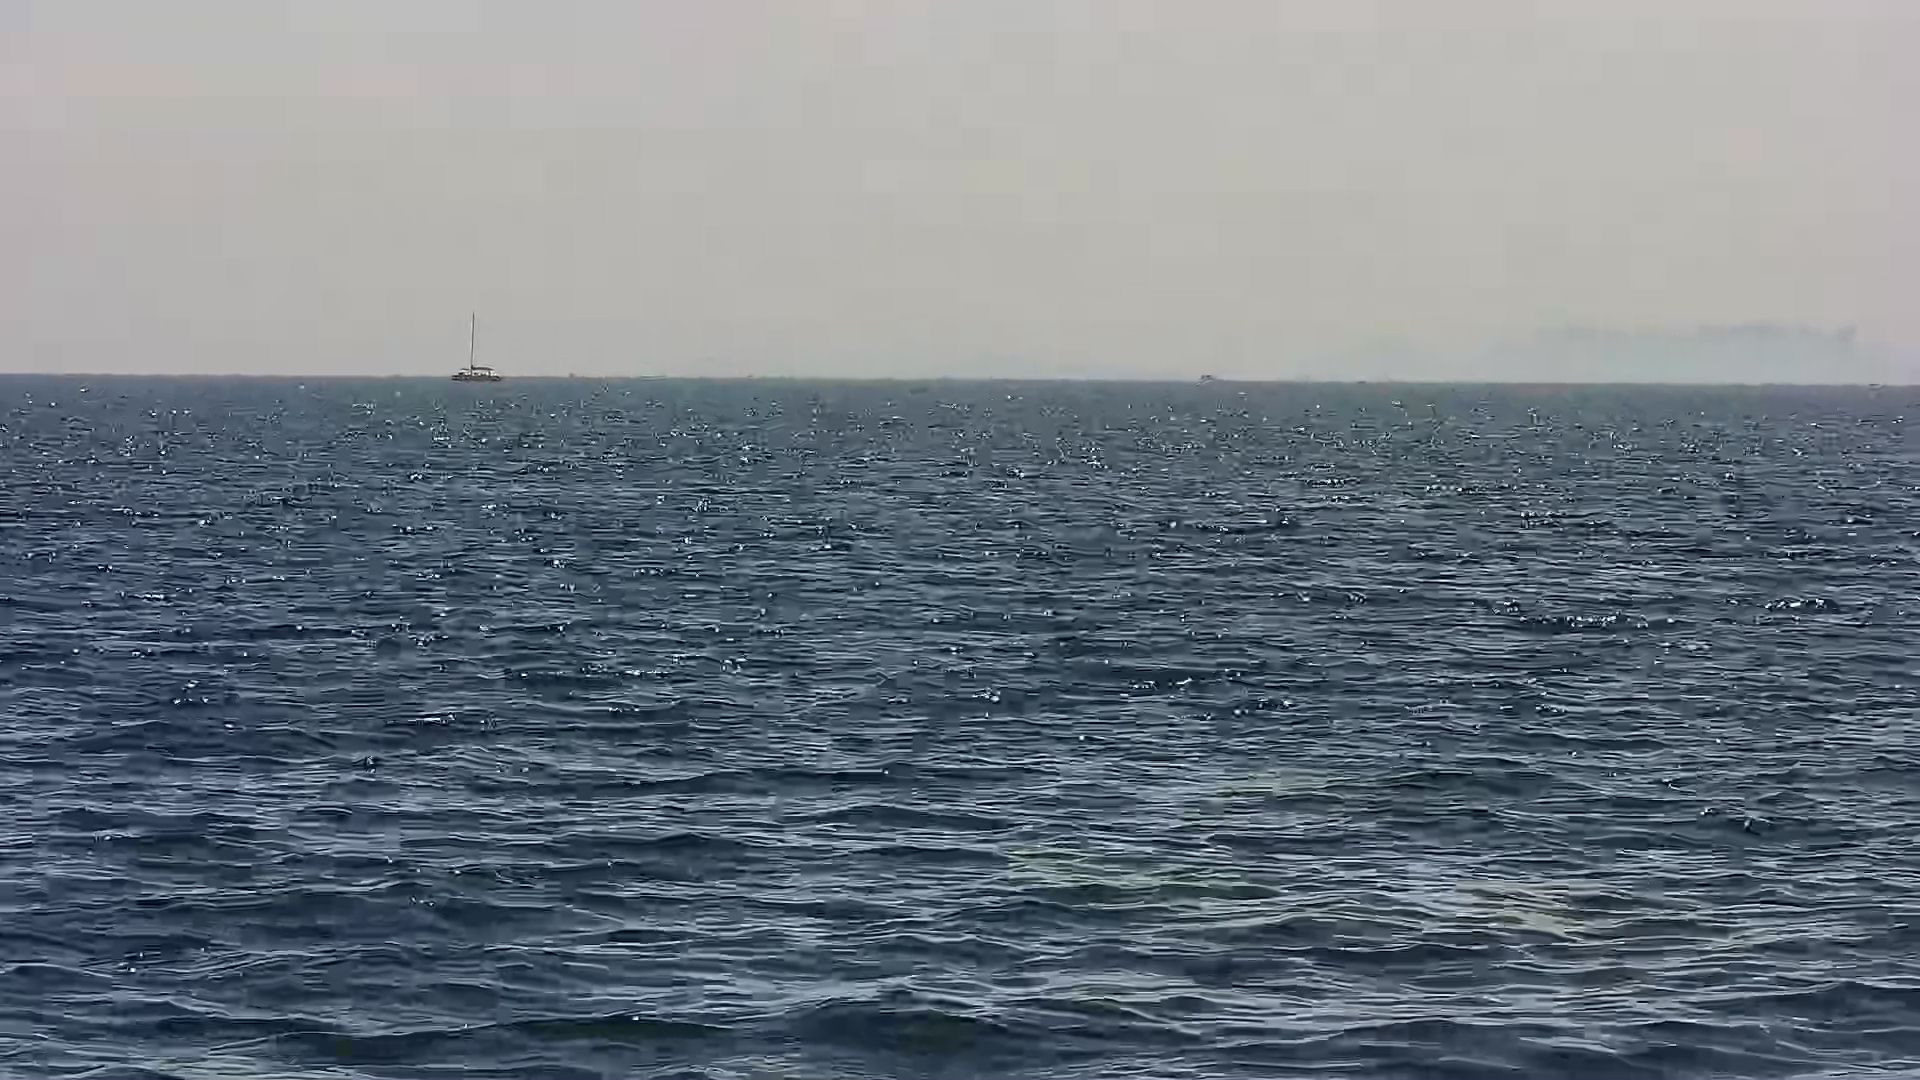boat: (452, 311, 502, 384)
